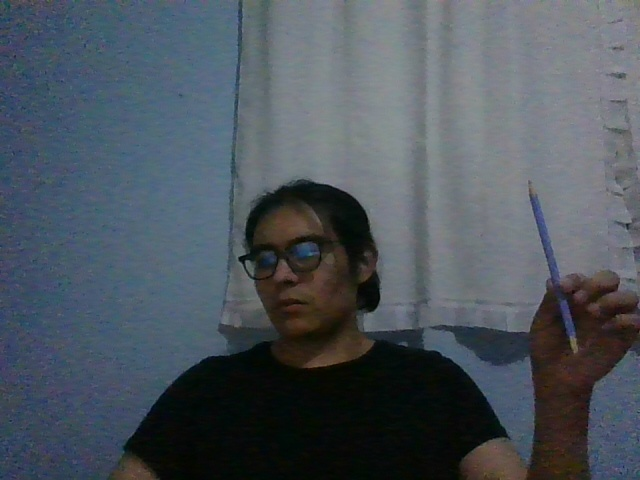lapiz: (527, 179, 581, 355)
